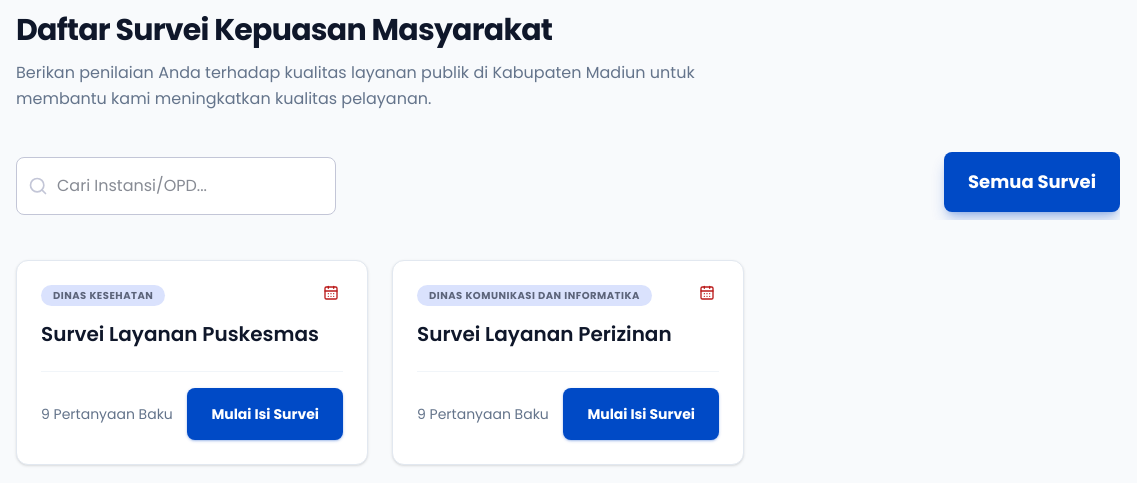
Test: Daftar survei warga — tombol Semua Survei › mengosongkan kolom pencarian dan menampilkan seluruh survei
Expected: the heading "Survei Layanan Puskesmas" is shown, [41,322,343,347]
Type "komunikasi" into the field with placeholder "Cari Instansi/OPD..." at (176, 186), box [16,157,336,215]
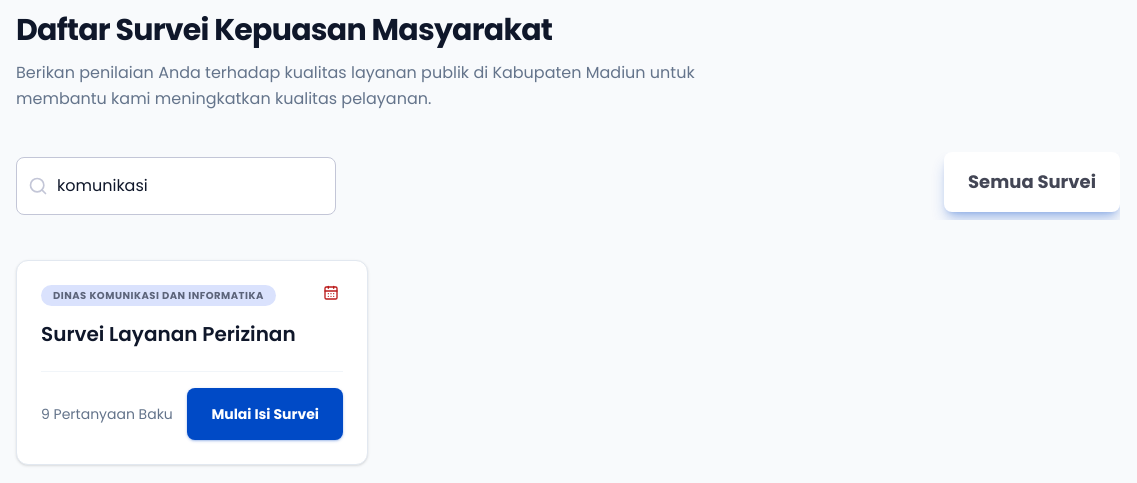
Expected: the heading "Survei Layanan Puskesmas" is gone
Click the button "Semua Survei" at (1032, 182), box [944,152,1120,212]
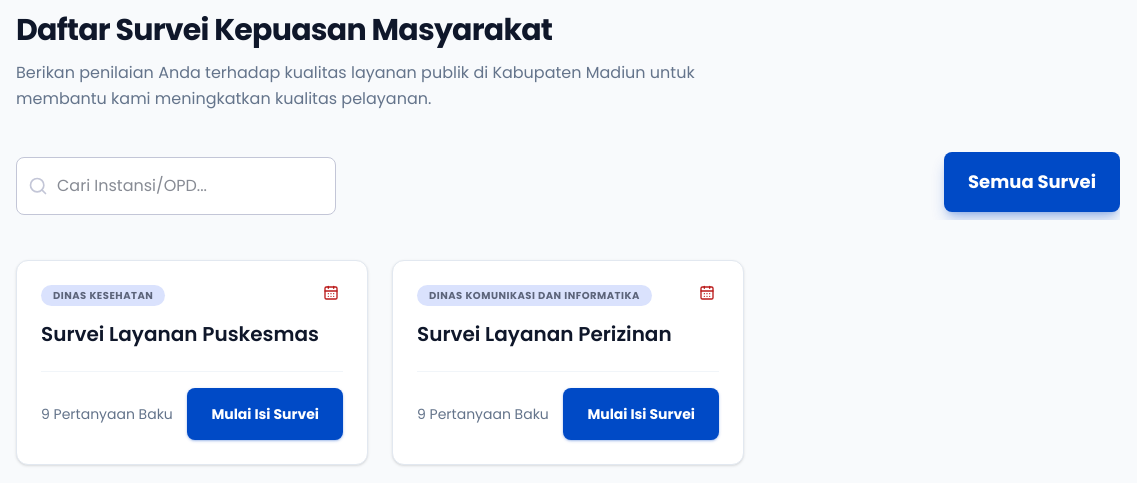
Expected: the heading "Survei Layanan Perizinan" is shown, [417,320,672,348]
Expected: the field with placeholder "Cari Instansi/OPD..." is empty, [16,157,336,215]
Expected: the heading "Survei Layanan Puskesmas" is shown, [41,322,343,347]
